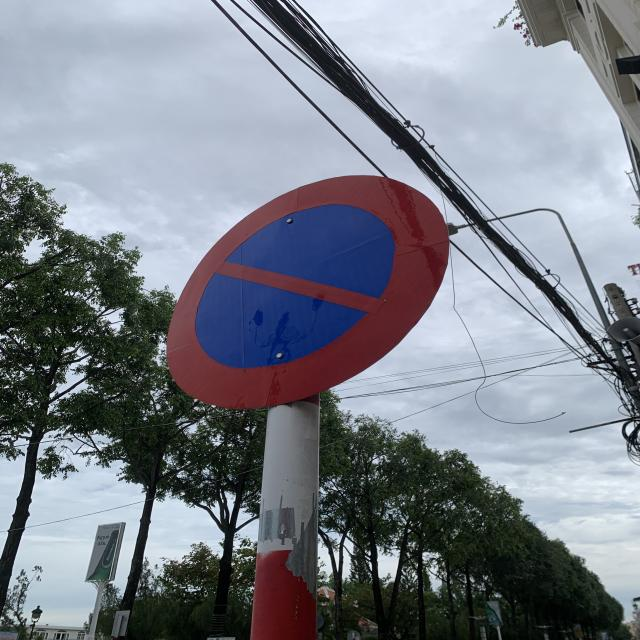Cam_Dau_Xe: (161, 168, 455, 414)
